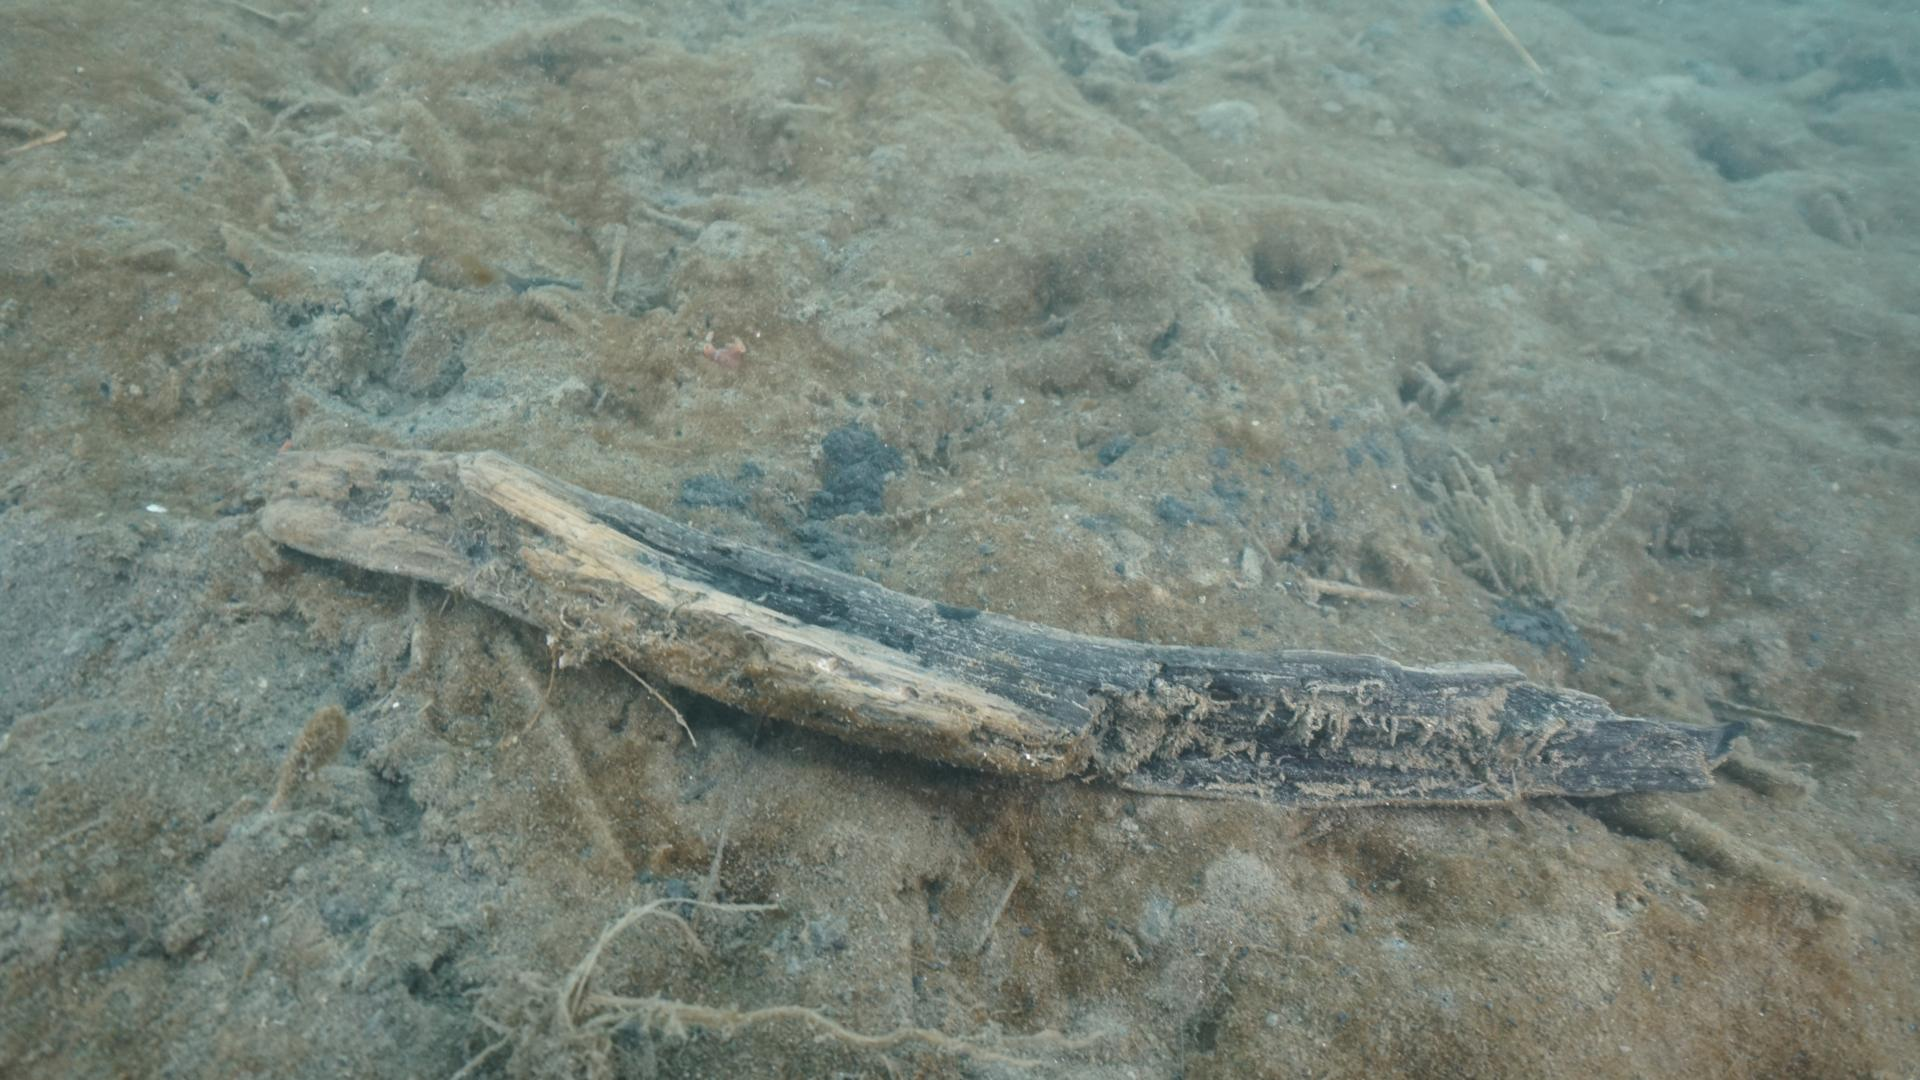wood: (258, 443, 1716, 803)
